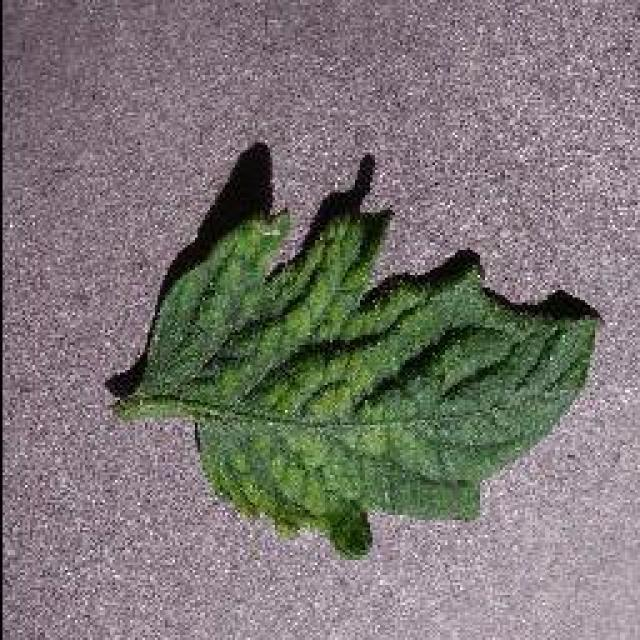Tomato___Tomato_mosaic_virus: (115, 212, 592, 555)
